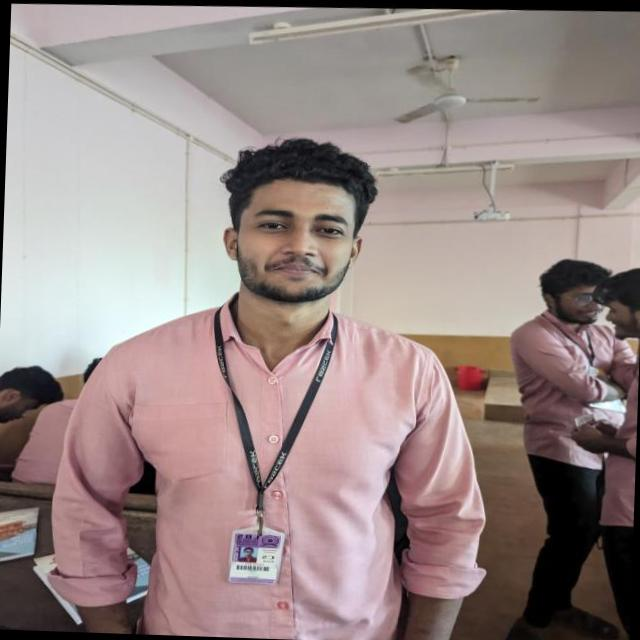id_card: (205, 306, 336, 586)
